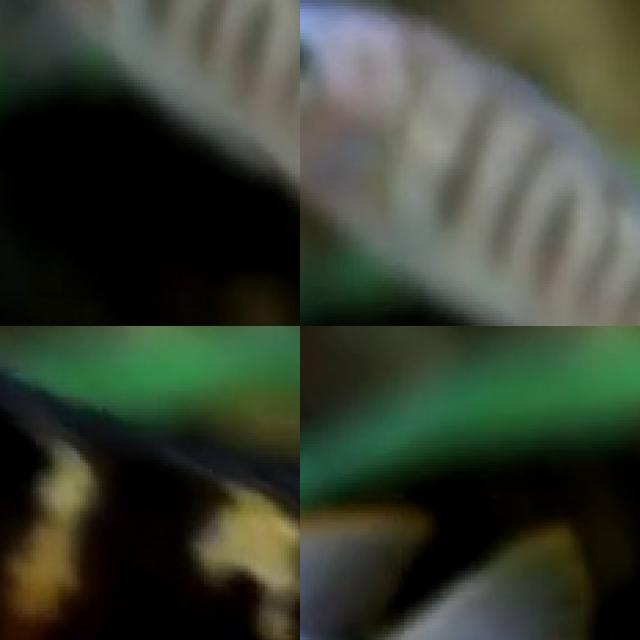fish: (0, 0, 300, 326), (0, 326, 300, 640)
